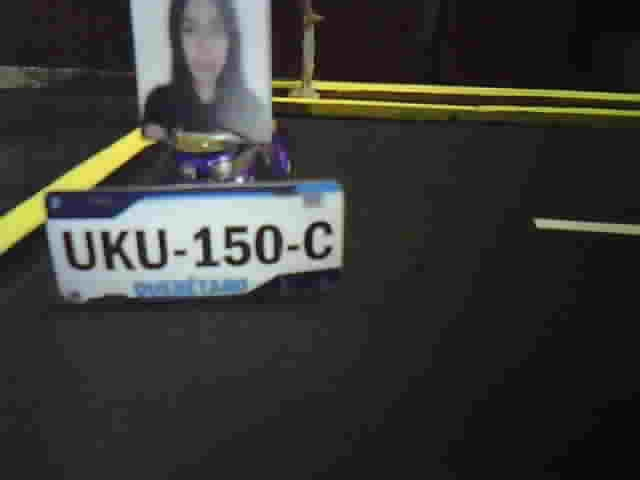PLACA: (41, 177, 347, 307)
ROSTRO: (139, 1, 269, 143)
